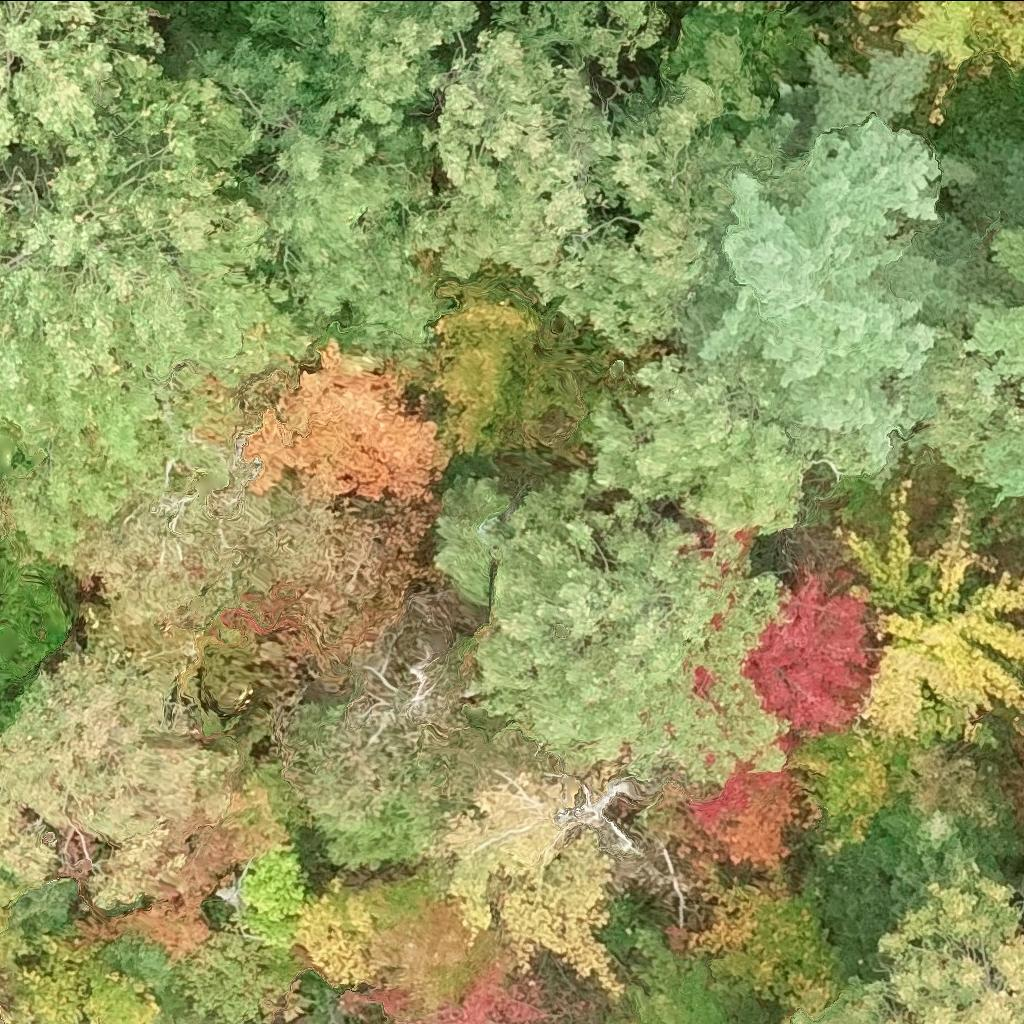crown: (0, 63, 310, 561), (402, 23, 801, 353), (699, 51, 965, 472), (474, 463, 793, 796), (188, 0, 477, 341), (0, 647, 240, 907), (689, 580, 874, 876), (589, 346, 862, 536), (425, 771, 619, 1000), (850, 490, 1023, 739), (72, 480, 259, 690), (787, 686, 1002, 856), (238, 337, 451, 503), (279, 486, 443, 676), (0, 0, 173, 163), (690, 888, 867, 1022), (880, 859, 1023, 1023), (369, 879, 512, 1020), (206, 460, 343, 592), (901, 0, 1023, 123), (2, 934, 162, 1023), (494, 0, 670, 73), (335, 966, 560, 1023), (165, 932, 291, 1023), (858, 795, 1003, 873), (287, 877, 390, 986), (437, 475, 518, 600), (72, 900, 214, 967), (891, 852, 1003, 914), (629, 970, 750, 1023), (959, 309, 1023, 384), (94, 933, 174, 991), (796, 982, 904, 1023), (145, 984, 226, 1023), (988, 409, 1023, 495), (998, 159, 1023, 275), (214, 864, 249, 912), (855, 0, 896, 10), (0, 203, 8, 221), (1017, 725, 1023, 735)
